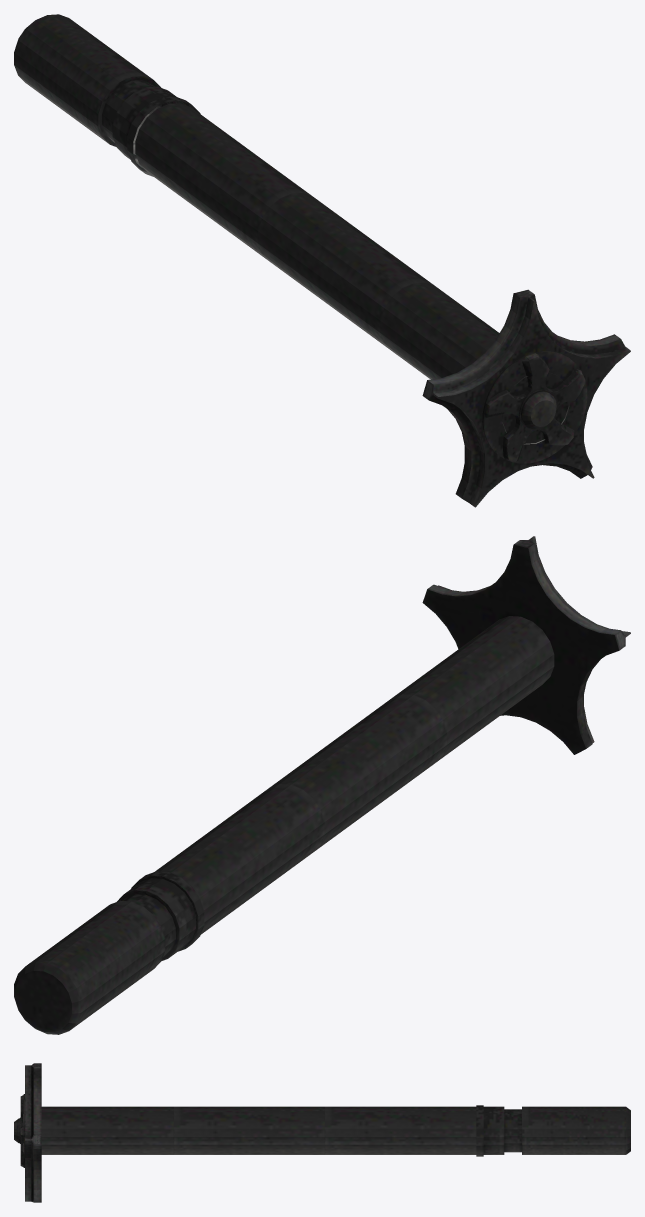
3 renders of one model, top to bottom at view 1: azimuth 30°, elevation 25°; view 2: azimuth 150°, elevation 25°; view 3: azimuth 270°, elevation 25°, orthographic. The views are drawn at different scales.
Parts seen in each view (by area): view 1: TW_60db29ce99594040e04c4a27_PZ_Import; view 2: TW_60db29ce99594040e04c4a27_PZ_Import; view 3: TW_60db29ce99594040e04c4a27_PZ_Import.
Part boxes in pixels (x1=…): TW_60db29ce99594040e04c4a27_PZ_Import: x1=14, y1=14, x2=630, y2=507; TW_60db29ce99594040e04c4a27_PZ_Import: x1=14, y1=536, x2=630, y2=1034; TW_60db29ce99594040e04c4a27_PZ_Import: x1=14, y1=1063, x2=630, y2=1202.
Size of the model in its own units: 0.0161 by 0.0708 by 0.0153.
Materials: 1 (1 with a texture image).
